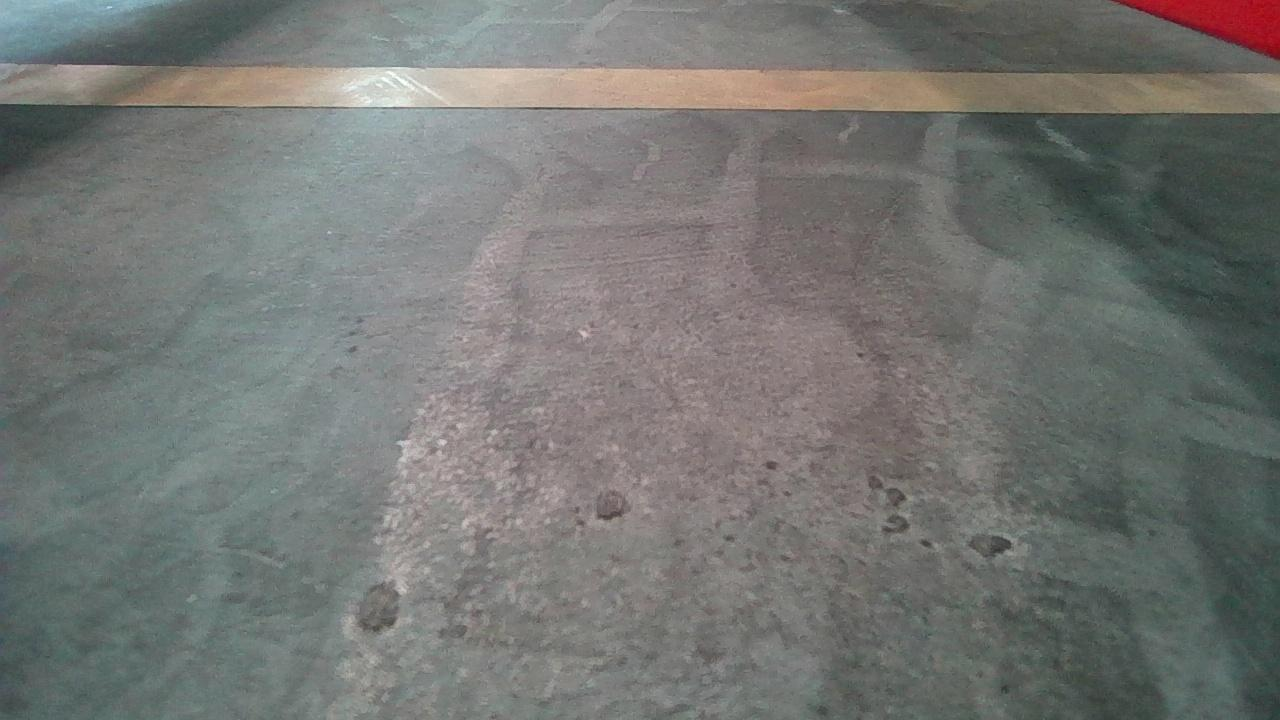yellow_line: (6, 54, 1265, 118)
